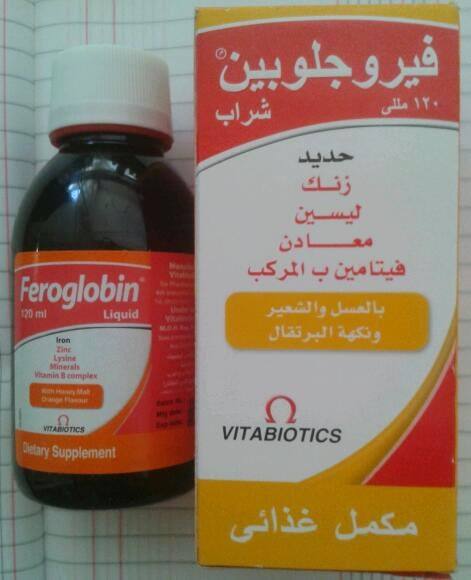Medicine: (187, 8, 463, 578), (17, 35, 195, 497)
